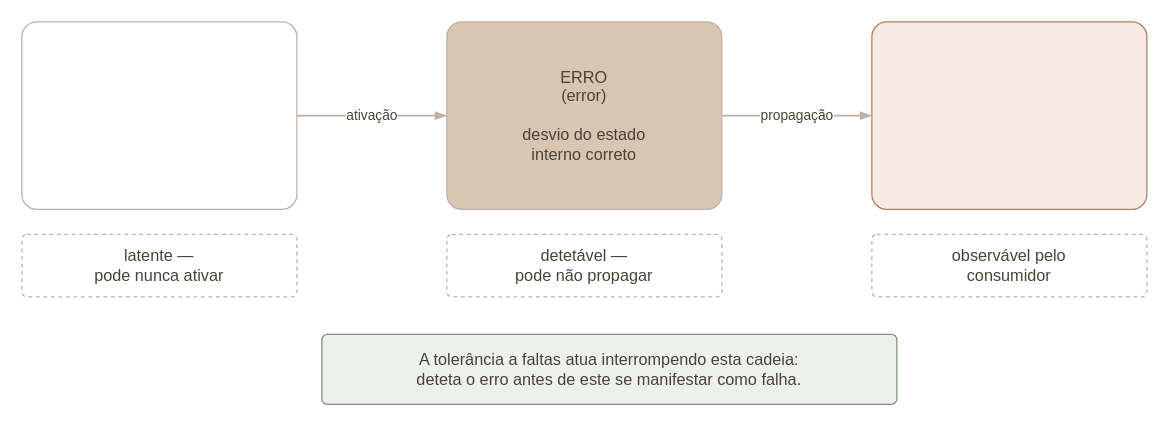
This 1169x426 diagram has some shape labels left out. Here are the shapes that lost their labels. From the top down, the centre of each, then its label:
point 159,115: FALTA (fault) causa hipotética ou adjudicada
point 1009,115: FALHA (failure) desvio do serviço prestado
